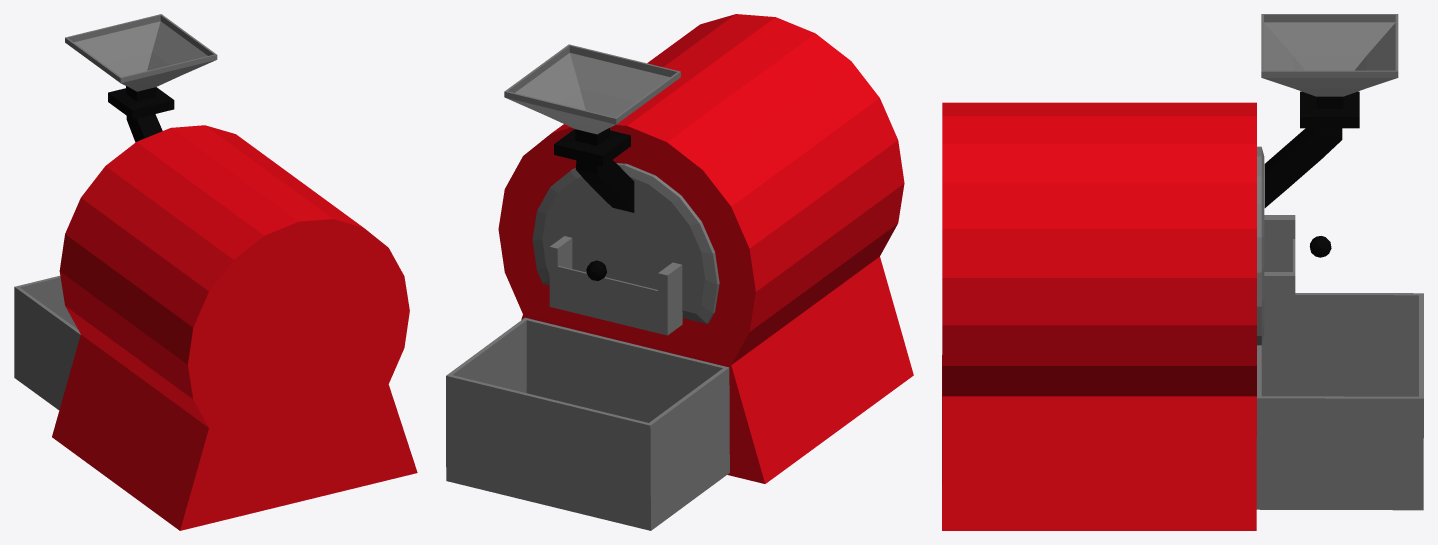
File: CoffeeRoaster.fbx
The picture shows the model from 3 angles, left to right: view 1: azimuth 30°, elevation 25°; view 2: azimuth 150°, elevation 25°; view 3: azimuth 270°, elevation 25°; orthographic projection. The views are drawn at different scales.
Visible parts, largest first — view 1: Cylinder.001, Cube.009; view 2: Cylinder.001, Cube.009, Cube.010; view 3: Cylinder.001, Cube.009, Cube.010.
Part boxes in pixels (left/top/right/bottom): Cylinder.001: left=14, top=125, right=417, bottom=530; Cube.009: left=65, top=14, right=217, bottom=142; Cylinder.001: left=446, top=14, right=913, bottom=530; Cube.009: left=504, top=44, right=680, bottom=212; Cube.010: left=549, top=236, right=682, bottom=335; Cylinder.001: left=942, top=102, right=1423, bottom=530; Cube.009: left=1261, top=14, right=1398, bottom=207; Cube.010: left=1263, top=215, right=1295, bottom=339.
Size of the model in its own units: 133 by 182 by 191.
